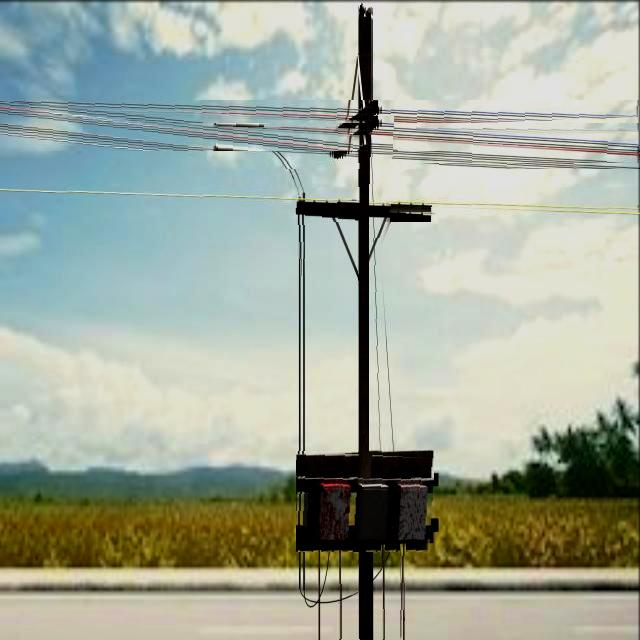crossarm: (296, 455, 434, 552), (296, 202, 435, 222), (335, 116, 379, 156)
pole: (359, 6, 372, 639)
transformer: (317, 478, 354, 543), (399, 477, 431, 533), (362, 479, 393, 532)
wire: (1, 126, 610, 163), (0, 134, 553, 169), (0, 102, 401, 143), (0, 187, 640, 211), (0, 100, 638, 123), (0, 112, 359, 151), (0, 124, 639, 139), (369, 117, 385, 455), (400, 543, 406, 639), (297, 216, 302, 312), (338, 550, 342, 640), (317, 550, 321, 640), (382, 541, 385, 639), (302, 217, 305, 281)
